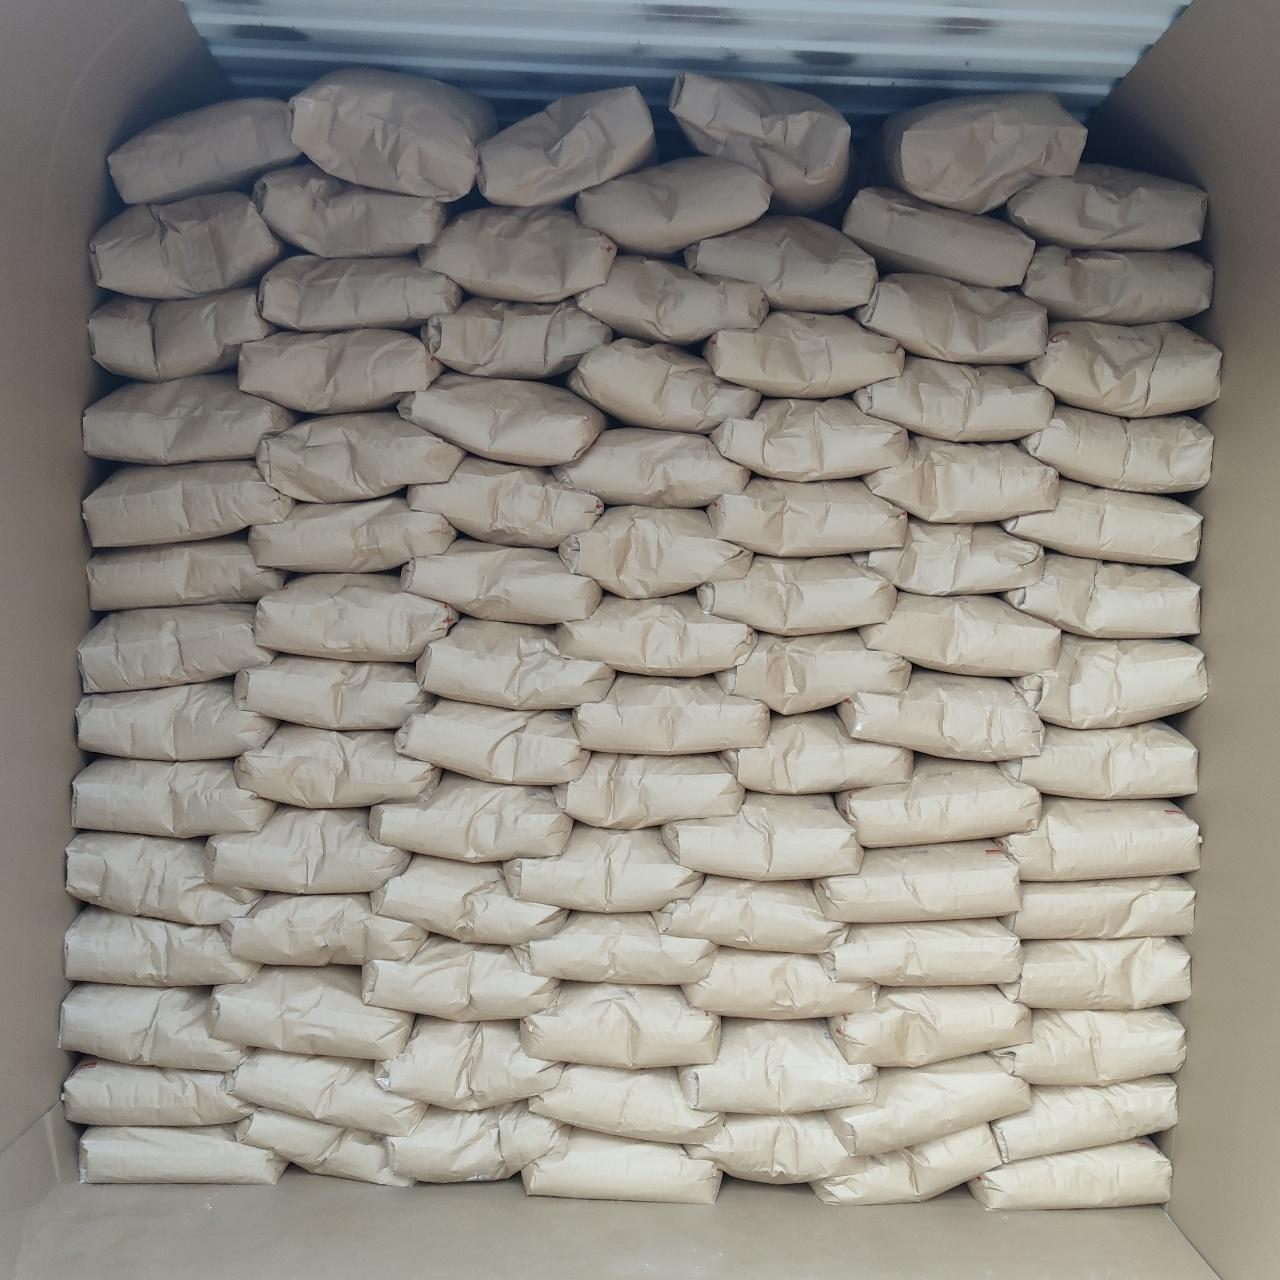sack: (287, 68, 496, 199), (670, 72, 846, 212), (880, 94, 1086, 212), (478, 88, 656, 204), (108, 98, 300, 204), (826, 1054, 1028, 1154), (92, 192, 284, 294), (398, 372, 606, 462), (578, 156, 768, 254), (84, 374, 294, 462), (844, 188, 1032, 286), (420, 206, 614, 300), (1022, 322, 1220, 414), (210, 968, 412, 1058), (838, 756, 1038, 846), (258, 412, 462, 500), (254, 162, 448, 254), (372, 772, 570, 862), (686, 216, 874, 310), (1014, 634, 1206, 726), (568, 338, 758, 430), (418, 618, 612, 708), (680, 1020, 874, 1110), (66, 832, 260, 922), (840, 670, 1038, 758), (408, 456, 600, 546), (852, 274, 1046, 362), (84, 462, 292, 544), (256, 574, 454, 660), (208, 806, 406, 892), (92, 286, 272, 380), (506, 824, 702, 910), (1002, 552, 1198, 638), (376, 1018, 558, 1110), (560, 508, 750, 596), (576, 254, 766, 342), (372, 856, 566, 942), (1004, 478, 1198, 564), (704, 312, 902, 396), (854, 354, 1052, 438), (662, 794, 860, 878), (236, 724, 438, 806), (80, 604, 272, 690), (1020, 406, 1212, 492), (862, 592, 1058, 676), (240, 330, 440, 412), (1004, 164, 1204, 246), (364, 936, 558, 1020), (228, 1050, 422, 1134), (402, 540, 598, 622), (998, 798, 1198, 878), (60, 984, 246, 1070), (522, 984, 718, 1064), (72, 758, 272, 836), (712, 398, 906, 478), (554, 426, 748, 506), (78, 680, 276, 758), (866, 436, 1054, 518), (398, 700, 586, 782), (420, 296, 612, 376), (558, 594, 750, 674), (252, 496, 454, 572), (814, 842, 1016, 918), (716, 632, 910, 710), (990, 1076, 1174, 1158), (66, 906, 258, 984), (260, 256, 462, 330), (1000, 722, 1196, 798), (830, 988, 1030, 1062), (988, 1008, 1182, 1084), (722, 712, 910, 790), (814, 1126, 1000, 1204), (698, 556, 894, 630), (576, 674, 766, 750), (530, 1066, 720, 1142), (1020, 246, 1210, 322), (524, 1128, 718, 1202), (88, 534, 286, 606), (710, 478, 902, 552), (654, 876, 846, 950), (222, 894, 424, 964), (514, 912, 716, 982), (386, 1102, 566, 1180), (858, 518, 1042, 594), (556, 754, 742, 828), (968, 1138, 1170, 1206), (236, 656, 432, 726), (684, 948, 876, 1018), (236, 1110, 412, 1182), (66, 1058, 252, 1126), (1000, 940, 1188, 1006), (820, 920, 1020, 982), (686, 1114, 864, 1182), (80, 1124, 284, 1182), (1002, 876, 1192, 938)
